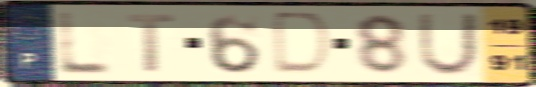6: (205, 12, 263, 75)
8: (351, 12, 412, 77)
D: (270, 9, 337, 78)
L: (57, 10, 115, 76)
T: (124, 12, 179, 74)
U: (416, 12, 481, 78)
